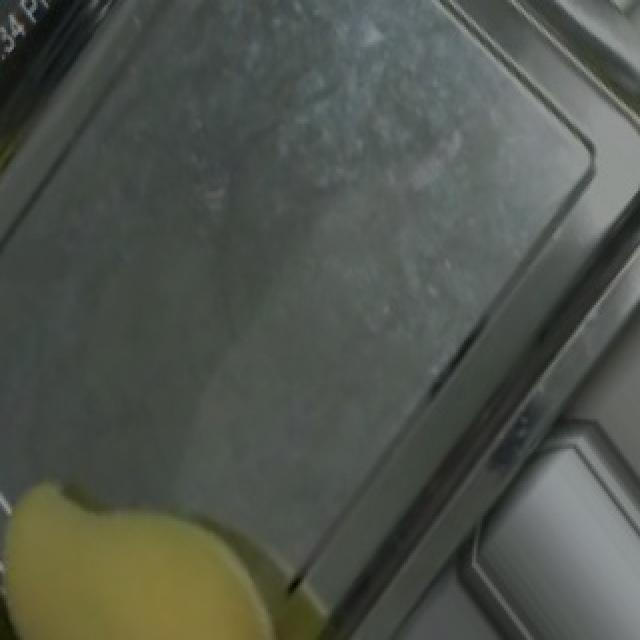fruit: (0, 439, 362, 640)
